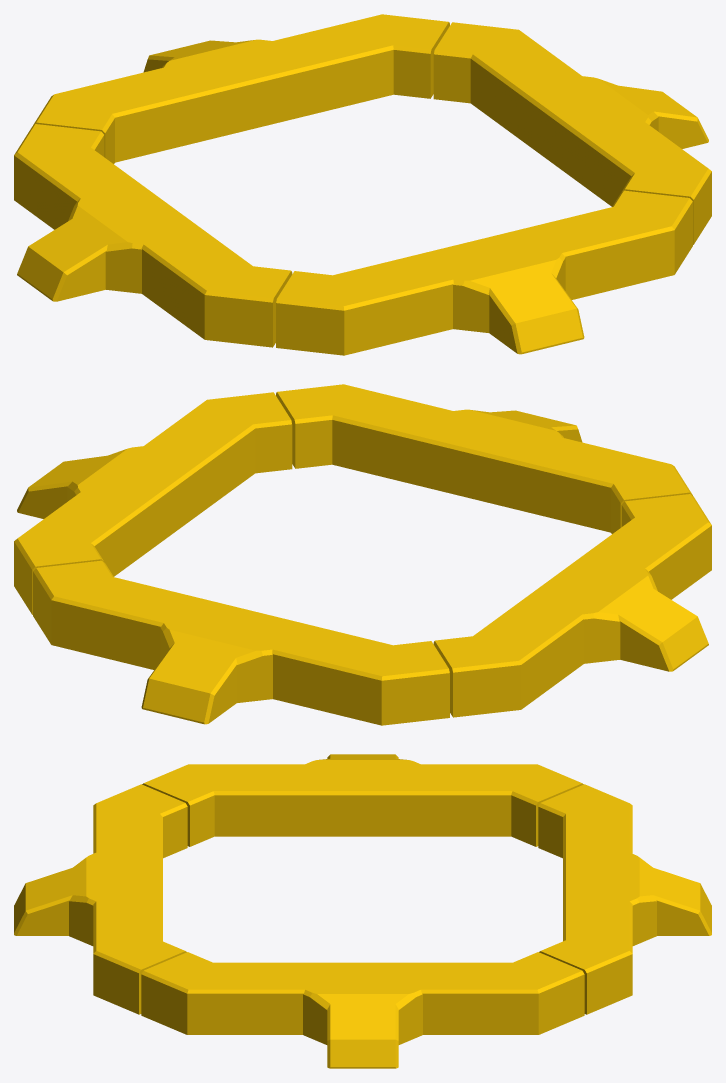
File: lid_cover_yellow.dae
The picture shows the model from 3 angles, top to bottom: view 1: azimuth 30°, elevation 25°; view 2: azimuth 150°, elevation 25°; view 3: azimuth 270°, elevation 25°; orthographic projection. The views are drawn at different scales.
Visible parts, largest first — view 1: PlasticLidCover_Yellow; view 2: PlasticLidCover_Yellow; view 3: PlasticLidCover_Yellow.
Part boxes in pixels (x1,y1,x2,y2): PlasticLidCover_Yellow: [14, 14, 711, 355]; PlasticLidCover_Yellow: [14, 384, 711, 725]; PlasticLidCover_Yellow: [14, 754, 711, 1068].
Size of the model in its own units: 0.2294 by 0.2294 by 0.016.
